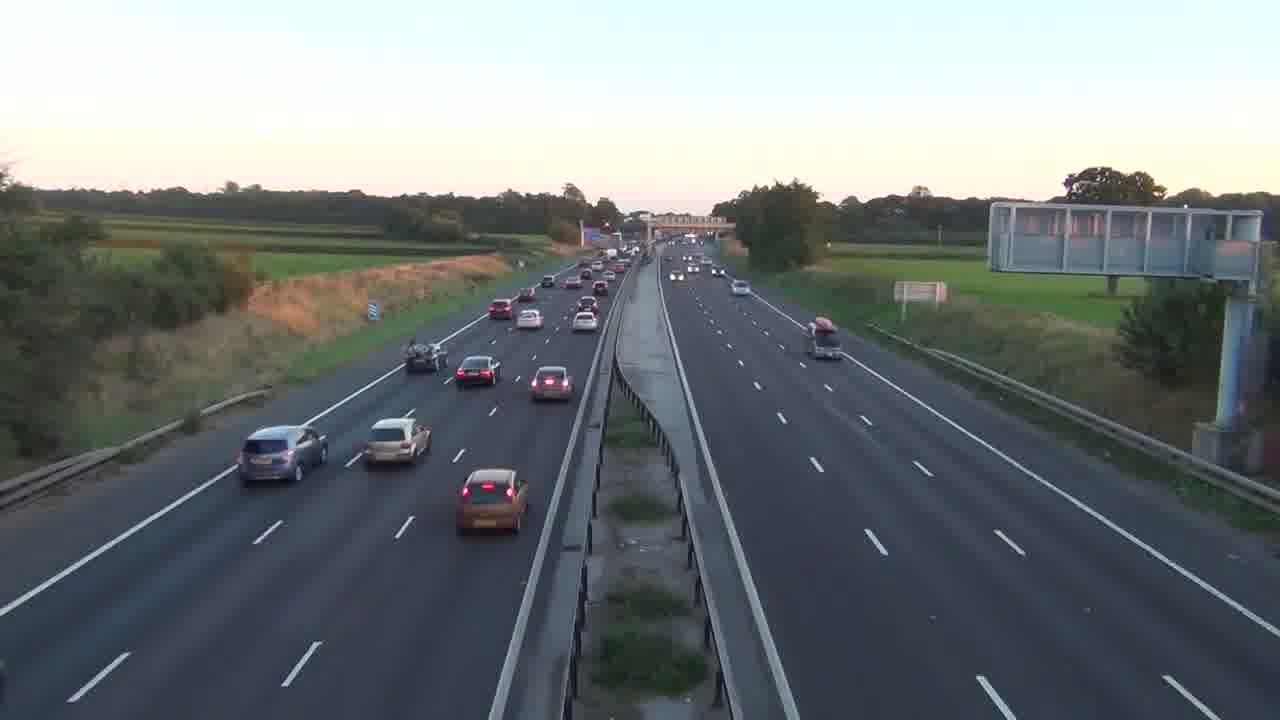car: (238, 424, 328, 484), (455, 467, 530, 534), (366, 413, 433, 465), (452, 354, 501, 389), (529, 365, 574, 402), (513, 306, 543, 330), (572, 310, 598, 332), (487, 298, 513, 320), (731, 279, 751, 295)
